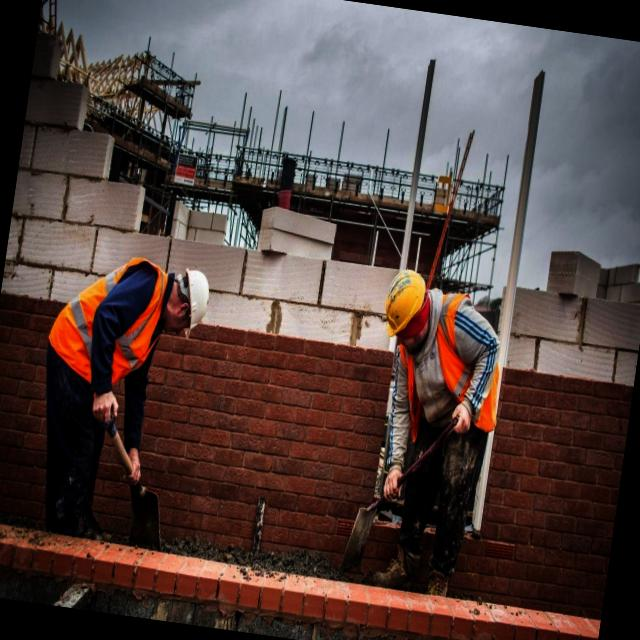Helmet: (381, 267, 431, 346), (175, 268, 216, 346)
Jacket: (410, 297, 507, 462), (56, 265, 184, 383)
